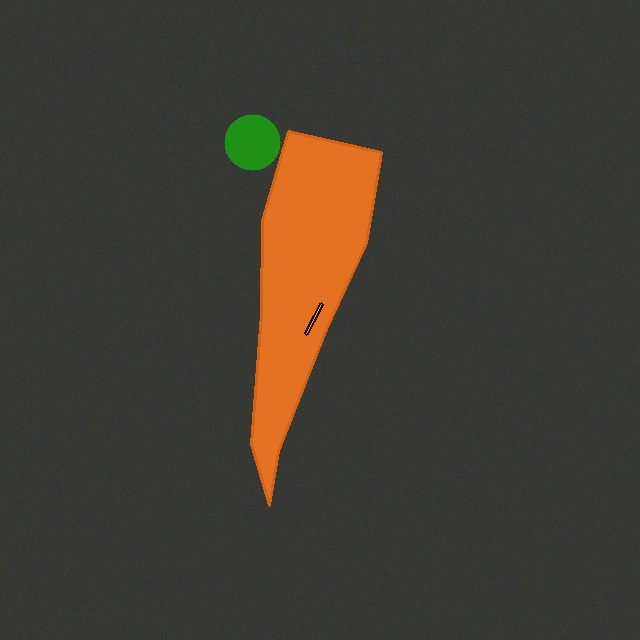Damaged_Carrot: (243, 123, 389, 513)
